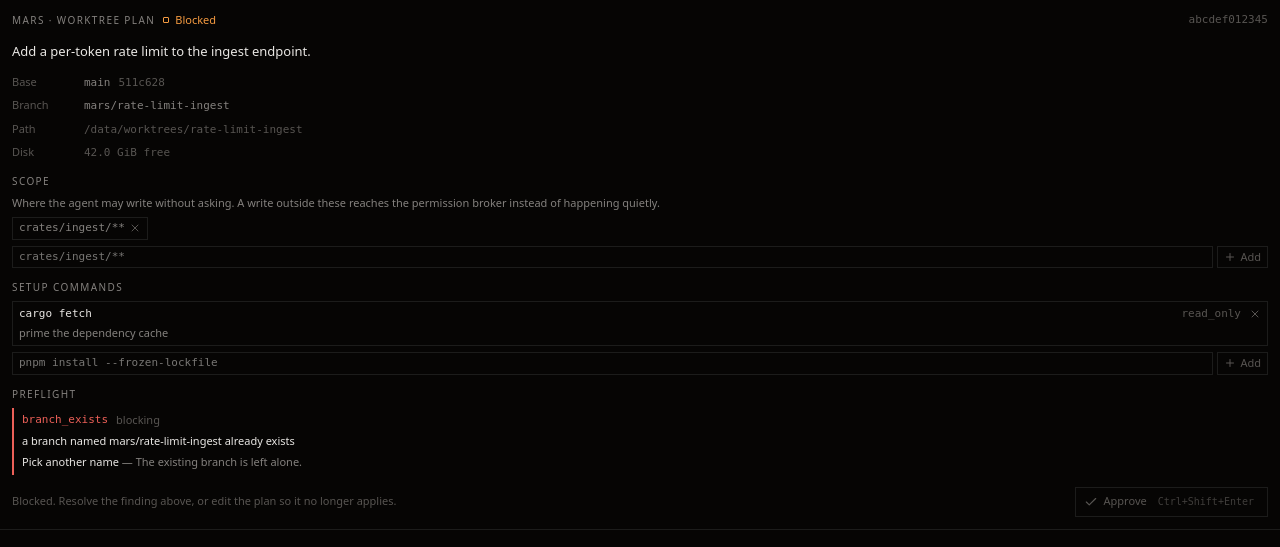
Scenario: WorktreePlanMessage preflight › lets an edit through, because editing may be the fix
The width and height of the screenshot is (1280, 547).
Step 1. Click the button named "Remove crates/ingest/**" next to "crates/ingest/**" → (135, 228), box [129, 222, 141, 234]
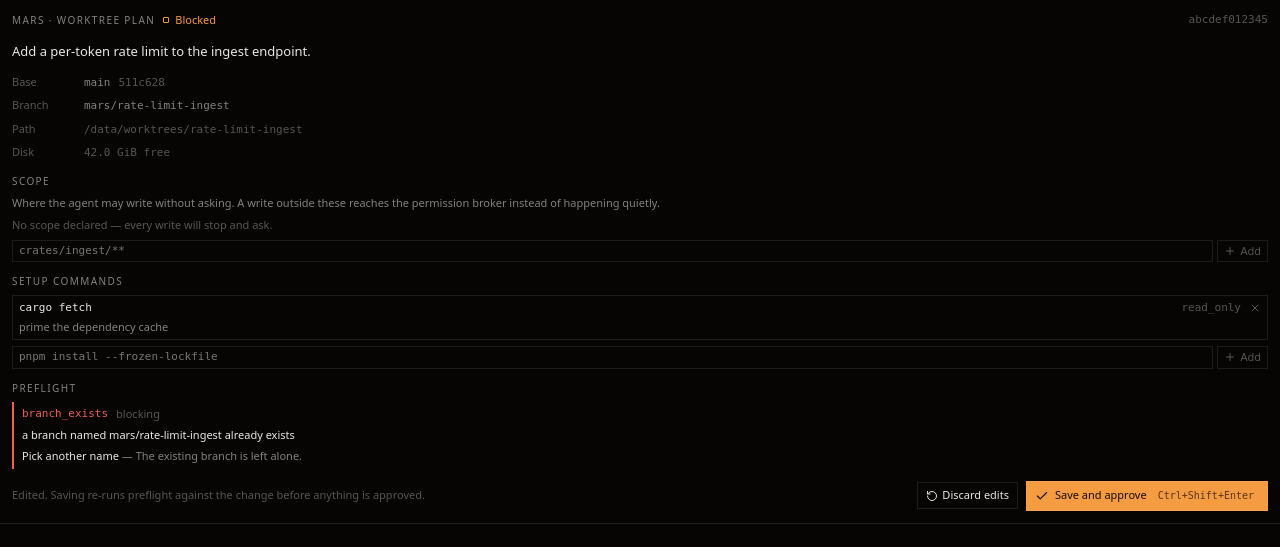
expect the button "Save and approve Ctrl+Shift+Enter" is enabled: met, box [1026, 480, 1268, 510]
